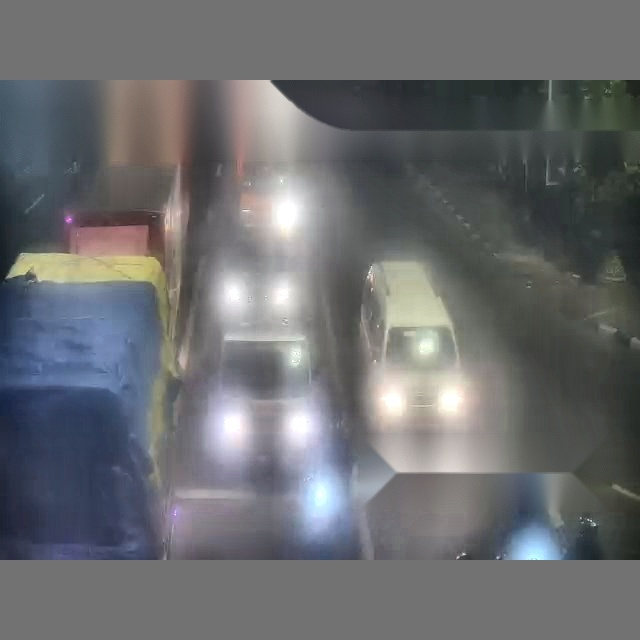Mobil: (497, 522, 565, 558)
